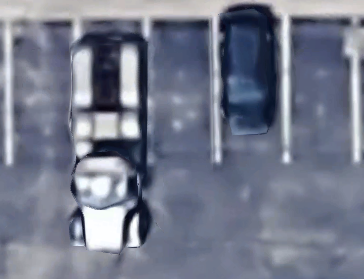Occupied: (77, 18, 148, 164), (215, 18, 286, 163)
Vacant: (285, 17, 357, 162), (7, 18, 77, 164), (147, 17, 217, 163)
